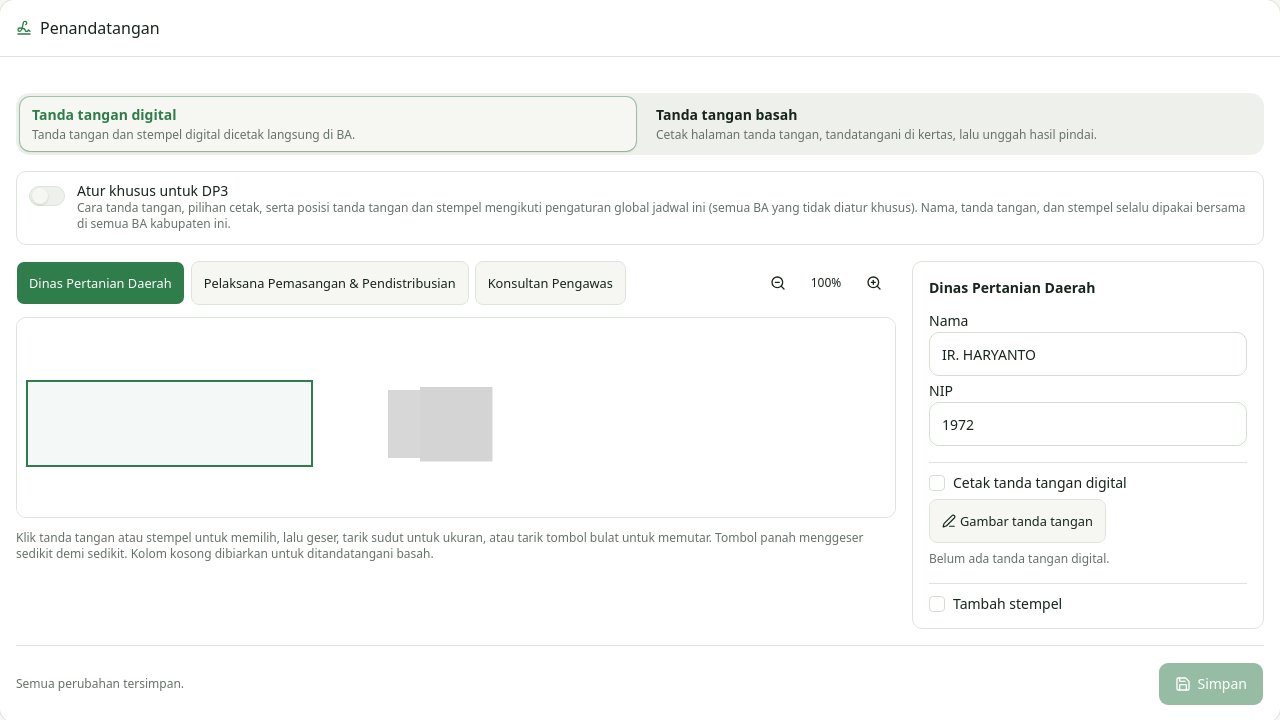
Test: shows the stamp upload when Tambah stempel is checked
The width and height of the screenshot is (1280, 720).
Click the tab "Konsultan Pengawas" at (550, 283), box [475,261,626,305]
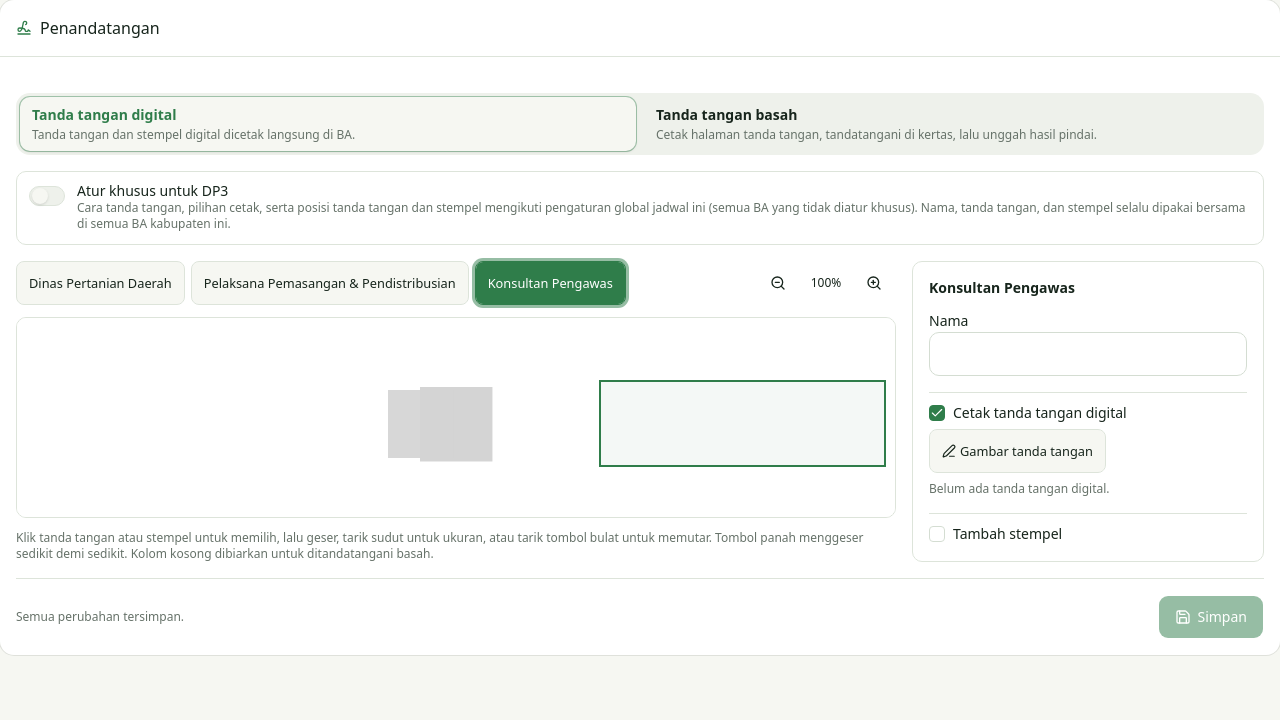
Expected: the text "Unggah stempel" is not shown
Click the checkbox named "Tambah stempel" next to "Tambah stempel" at (937, 534), box [929,526,945,542]
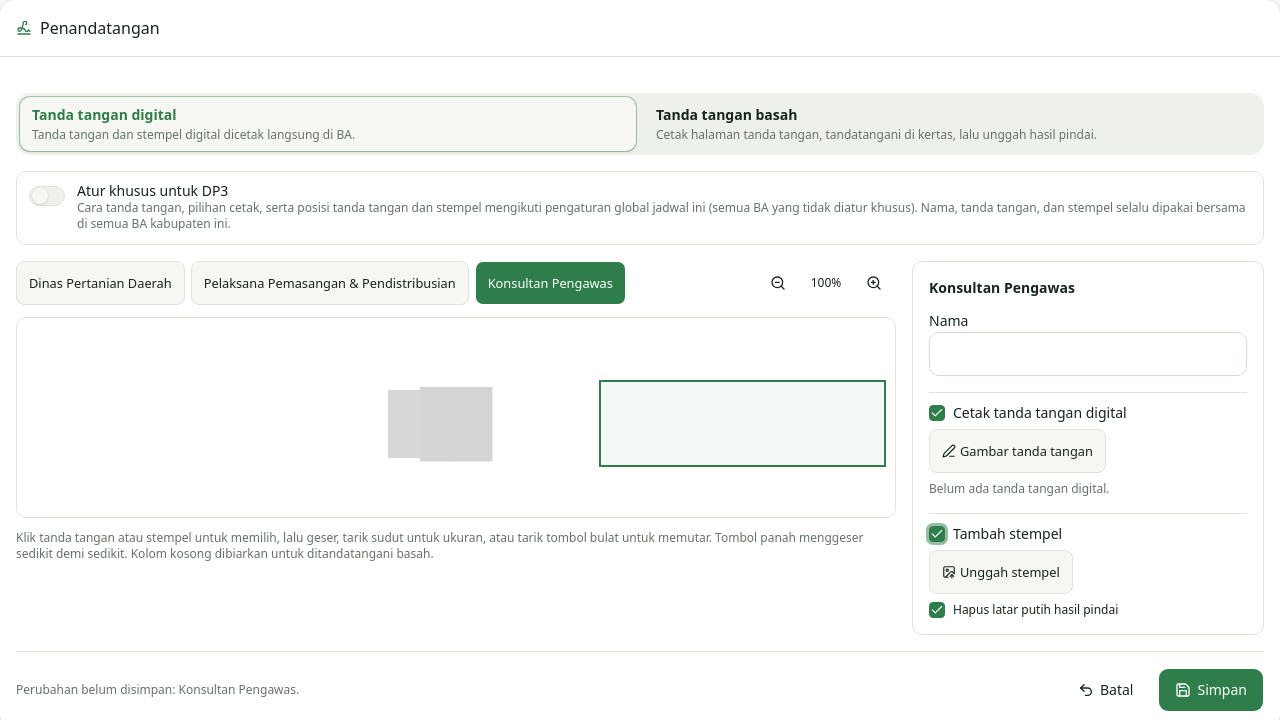
Expected: the button "Unggah stempel" is shown, [929,550,1073,594]
